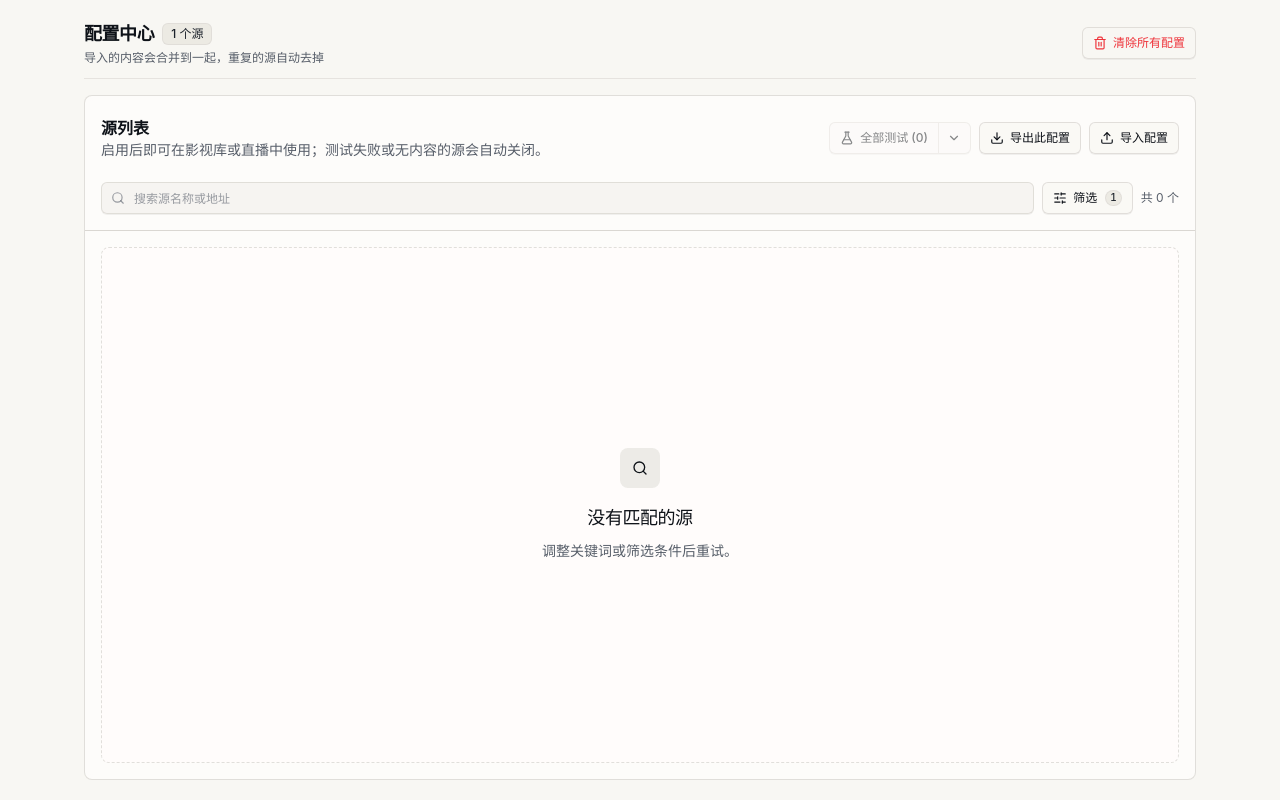
Scenario: config center › keeps the parser's note for a record that cannot be parsed
What coordinates should you click on to do the following:
click the button "筛选 1"
I would click on:
 (1087, 198)
Its box is [1042,182,1133,214].
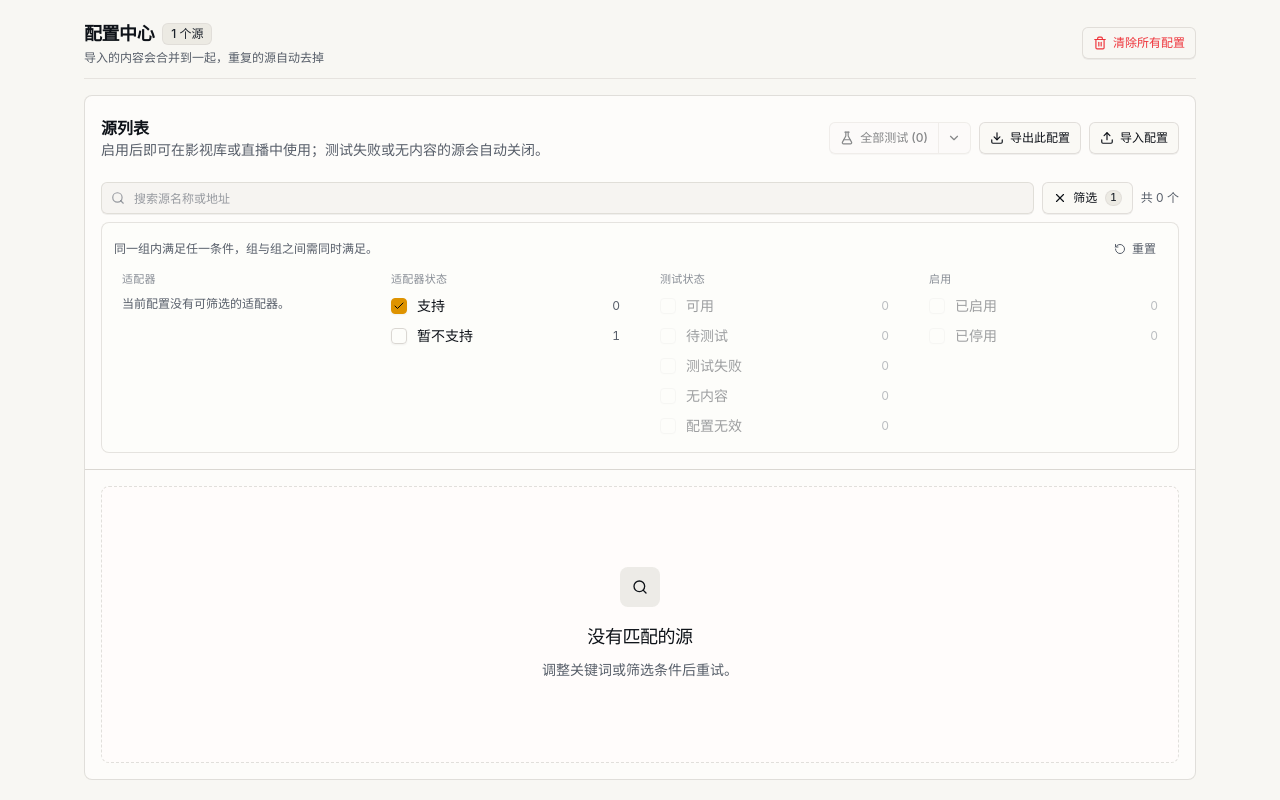
What coordinates should you click on to do the following:
click the button "重置"
I would click on:
 (1135, 249)
Its box is [1104,235,1166,263].
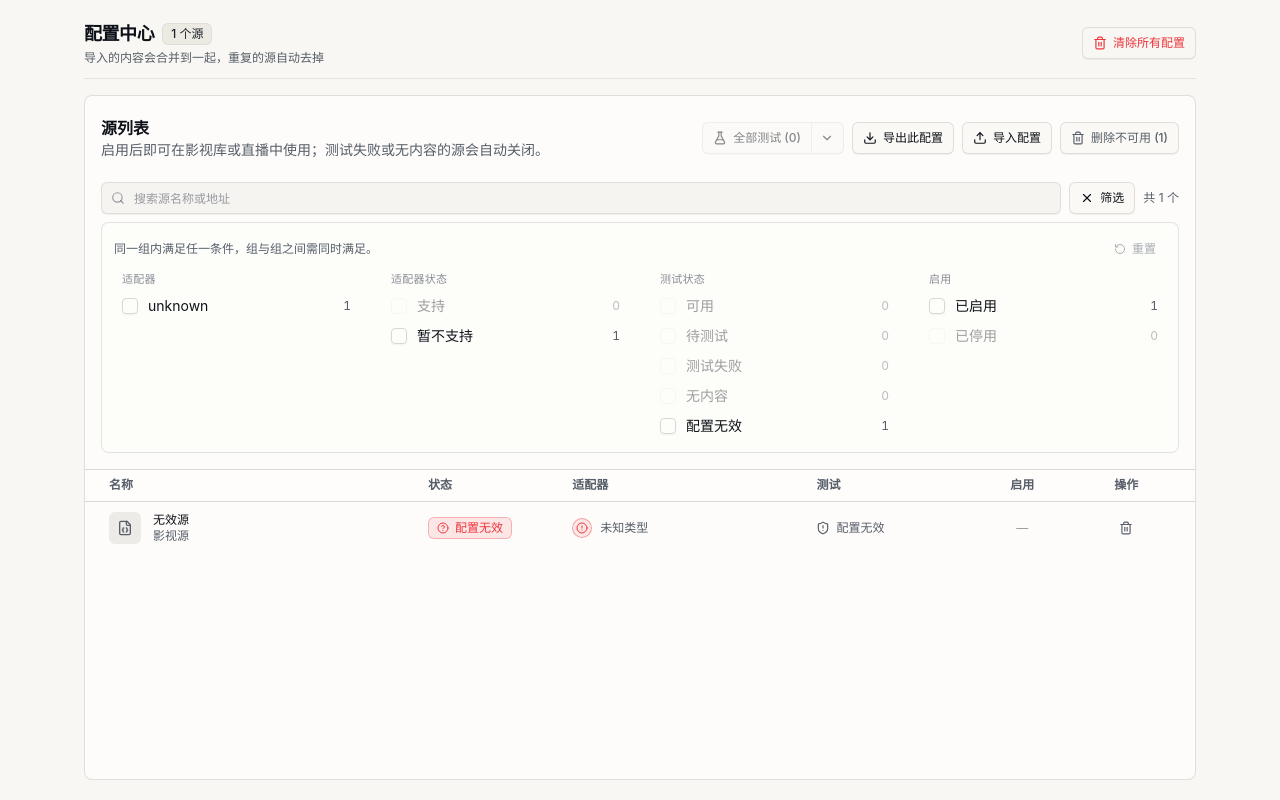
What coordinates should you click on to do the following:
click the checkbox named "暂不支持"
I would click on:
 (399, 336)
Its box is [391,328,407,344].
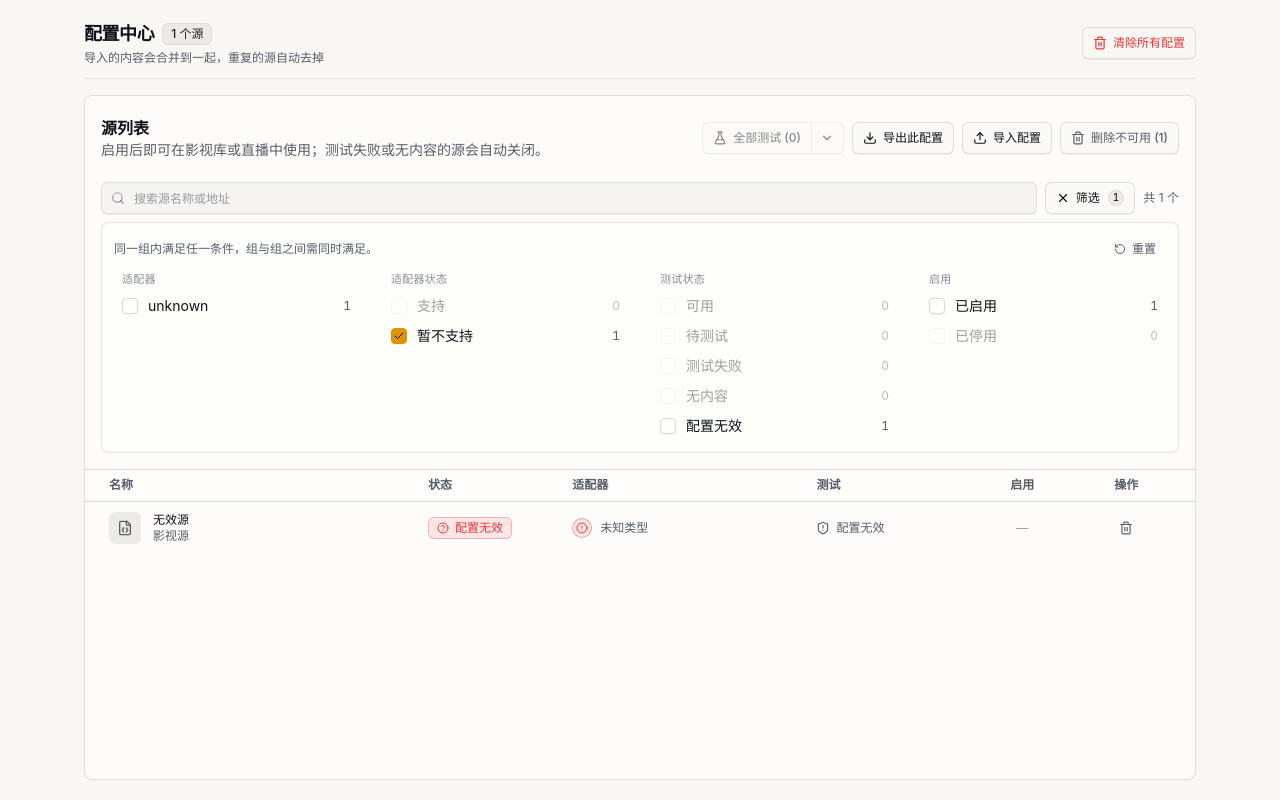
What coordinates should you click on to do the following:
click the row "无效源 影视源 配置无效 未知类型 配置无效 —"
I would click on:
 (640, 528)
Its box is [85,502,1195,554].
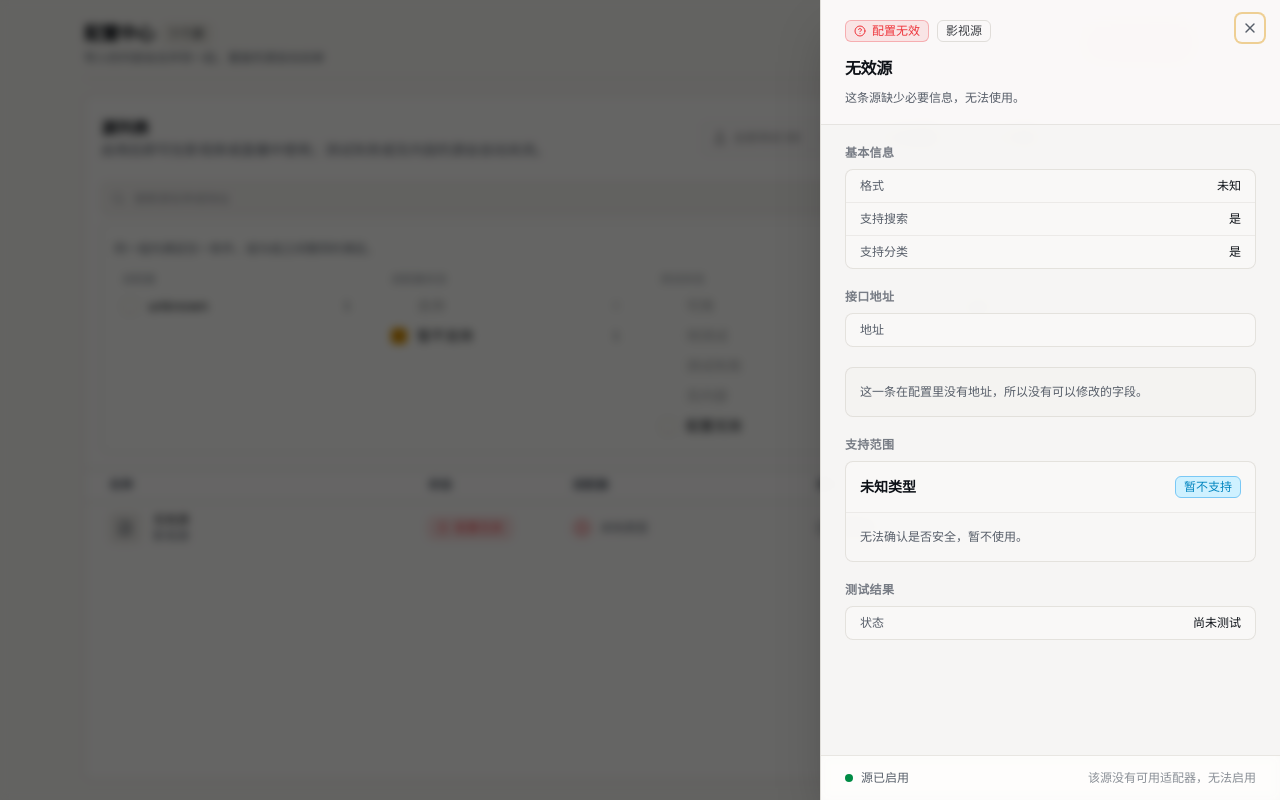
Now the text "这条源缺少必要信息，无法使用。" is shown, box [845,90,1025,105]
